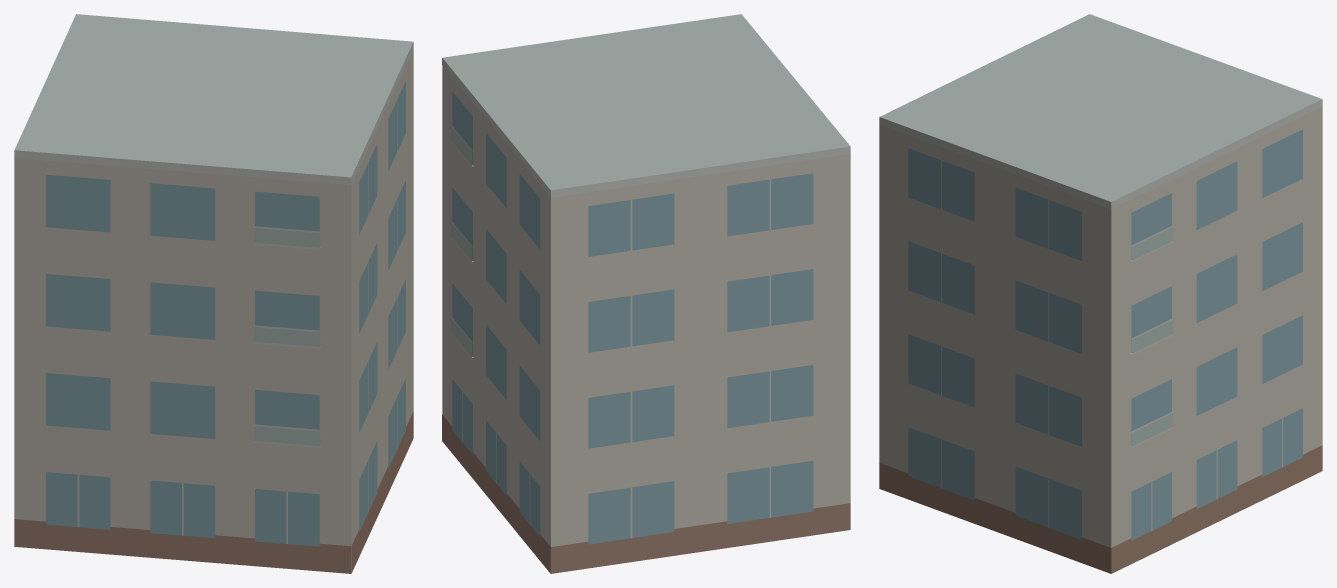
Rendered from survey-upis-33018594.glb.
3 views of the same model, side by side, from view 1: azimuth 30°, elevation 25°; view 2: azimuth 150°, elevation 25°; view 3: azimuth 270°, elevation 25° (orthographic). The views are drawn at different scales.
Parts seen in each view (by area): view 1: survey-upis-33018594.tmp; view 2: survey-upis-33018594.tmp; view 3: survey-upis-33018594.tmp.
Part boxes in pixels (left/top/right/bottom): survey-upis-33018594.tmp: left=14, top=14, right=413, bottom=573; survey-upis-33018594.tmp: left=442, top=14, right=850, bottom=573; survey-upis-33018594.tmp: left=879, top=14, right=1322, bottom=573.
Size of the model in its own units: 13.72 by 12.65 by 13.67.
